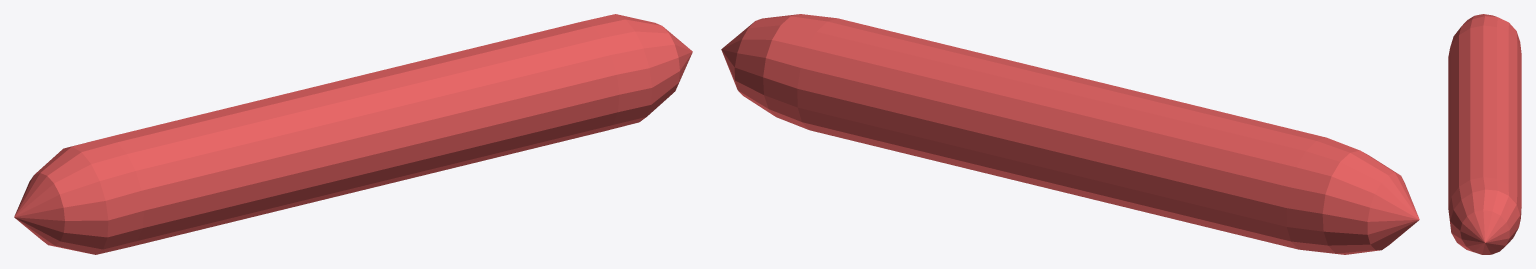
The model's file is Hotdog.fbx.
3 renders of one model, left to right at view 1: azimuth 30°, elevation 25°; view 2: azimuth 150°, elevation 25°; view 3: azimuth 270°, elevation 25°, orthographic. The views are drawn at different scales.
Parts seen in each view (by area): view 1: Hotdog; view 2: Hotdog; view 3: Hotdog.
Part boxes in pixels (bbox=[...]): Hotdog: bbox=[14, 14, 692, 254]; Hotdog: bbox=[721, 14, 1419, 254]; Hotdog: bbox=[1448, 14, 1521, 254].
Size of the model in its own units: 24.9 by 3.56 by 3.56.
